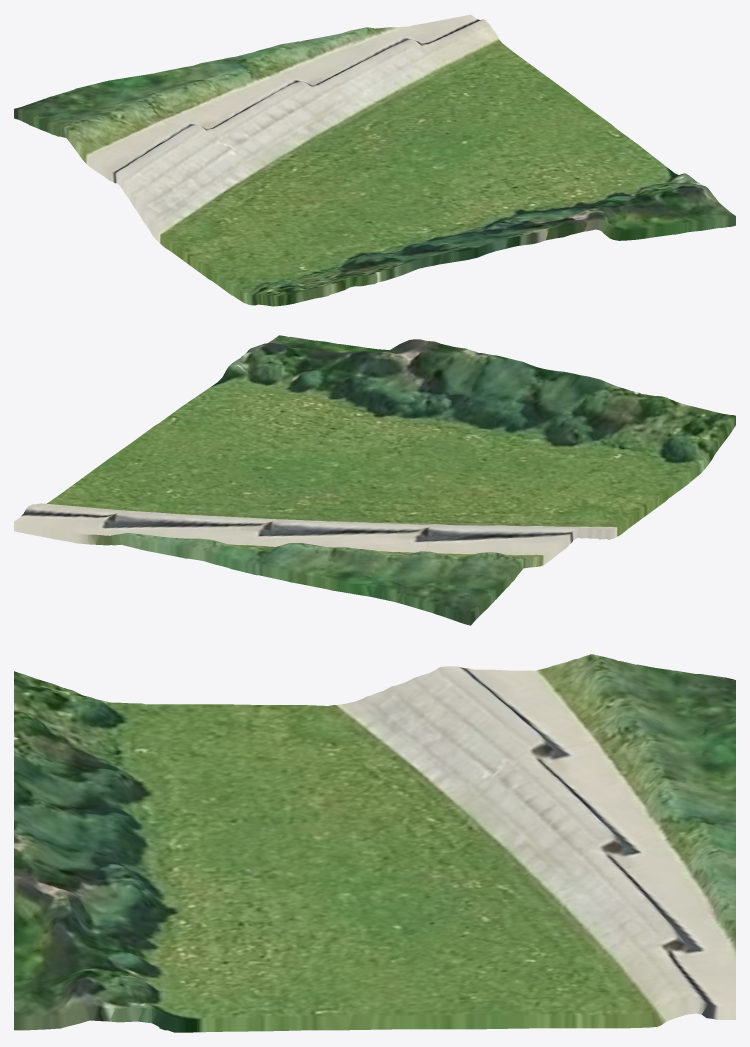
File: z20-167567-405175-h0-yup-uvflip-v3-world.glb
3 renders of one model, top to bottom at view 1: azimuth 30°, elevation 25°; view 2: azimuth 150°, elevation 25°; view 3: azimuth 270°, elevation 25°, orthographic. The views are drawn at different scales.
Bounding box in the file's own units: 30.16 × 3.48 × 30.32.
Materials: 1 (1 with a texture image).
